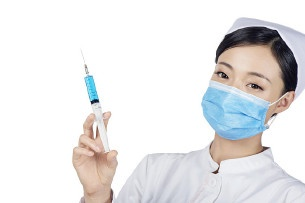Mask: (204, 59, 277, 132)
